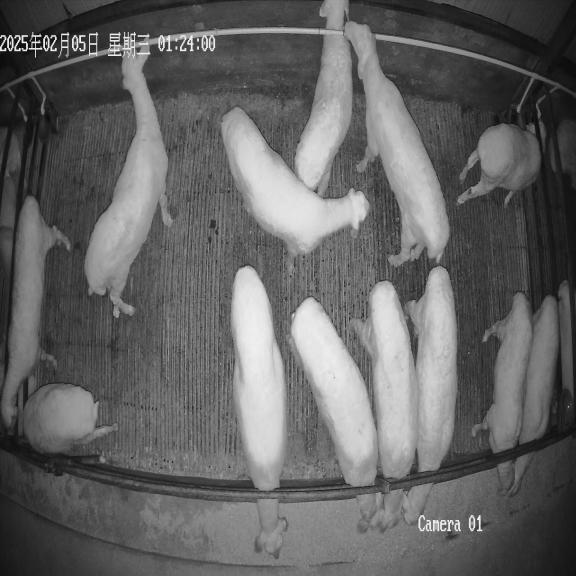drinking: (457, 116, 546, 207), (22, 384, 117, 454)
eating: (287, 297, 384, 532), (349, 280, 418, 531), (231, 266, 287, 558), (401, 266, 457, 524), (471, 292, 532, 496), (508, 295, 560, 496)
stand: (344, 19, 450, 266), (221, 107, 369, 274), (84, 42, 172, 318), (0, 196, 70, 429), (295, 0, 352, 196)
